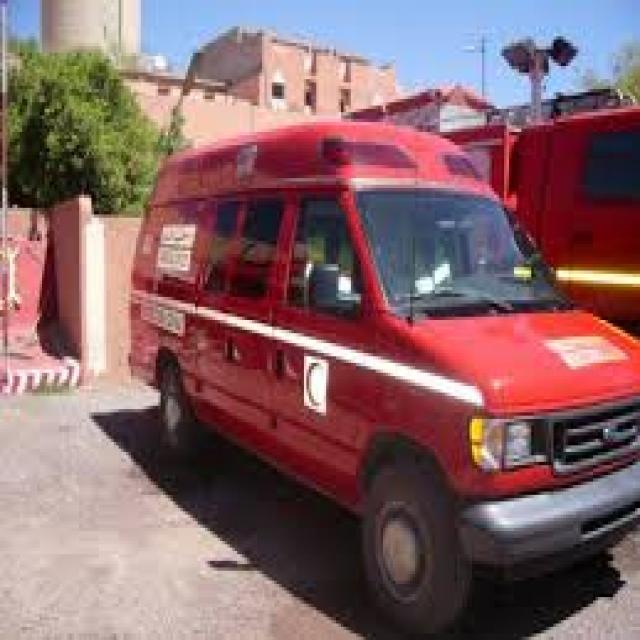ambulance: (125, 126, 638, 604)
